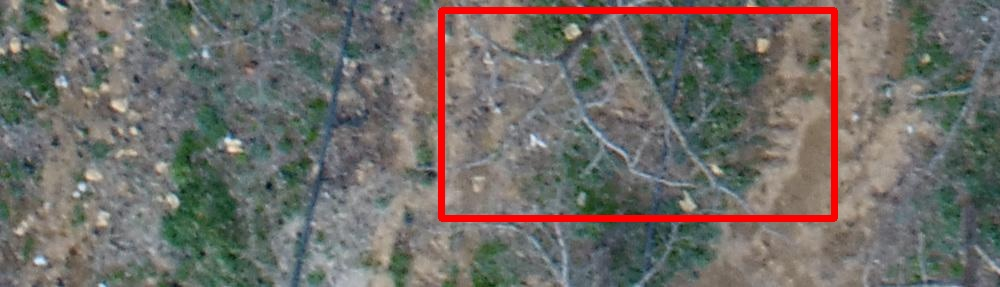apple: (441, 10, 834, 218)
